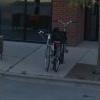Bicycle: (32, 13, 73, 77)
